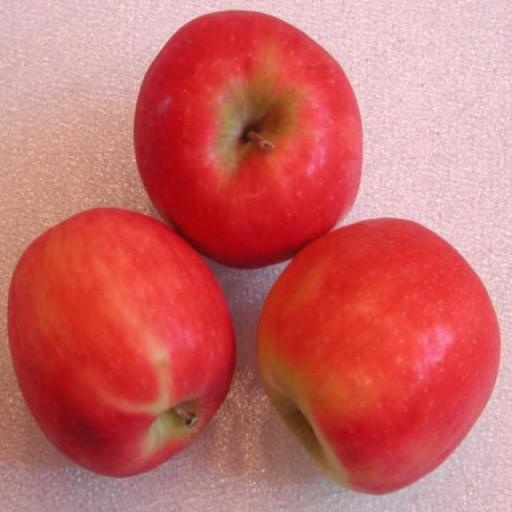fruit: (258, 219, 499, 493), (8, 209, 235, 475), (135, 12, 361, 267)
